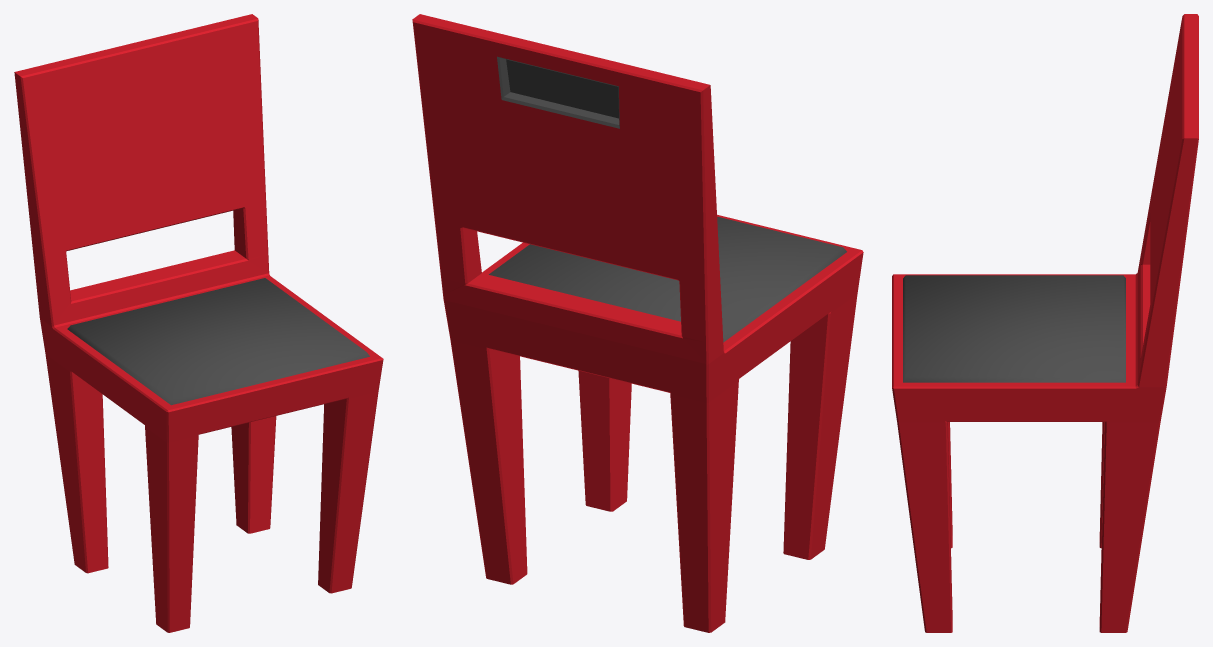
The model's file is Chair_Rd_00.FBX.
The picture shows the model from 3 angles, left to right: view 1: azimuth 30°, elevation 25°; view 2: azimuth 150°, elevation 25°; view 3: azimuth 270°, elevation 25°; orthographic projection. The views are drawn at different scales.
Visible parts, largest first — view 1: Chair_Rd_00; view 2: Chair_Rd_00; view 3: Chair_Rd_00.
Boxes of the visible parts, bbox=[...] form: Chair_Rd_00: bbox=[14, 14, 383, 632]; Chair_Rd_00: bbox=[412, 14, 863, 632]; Chair_Rd_00: bbox=[892, 14, 1198, 632].
Size of the model in its own units: 0.5255 by 1 by 0.548.
